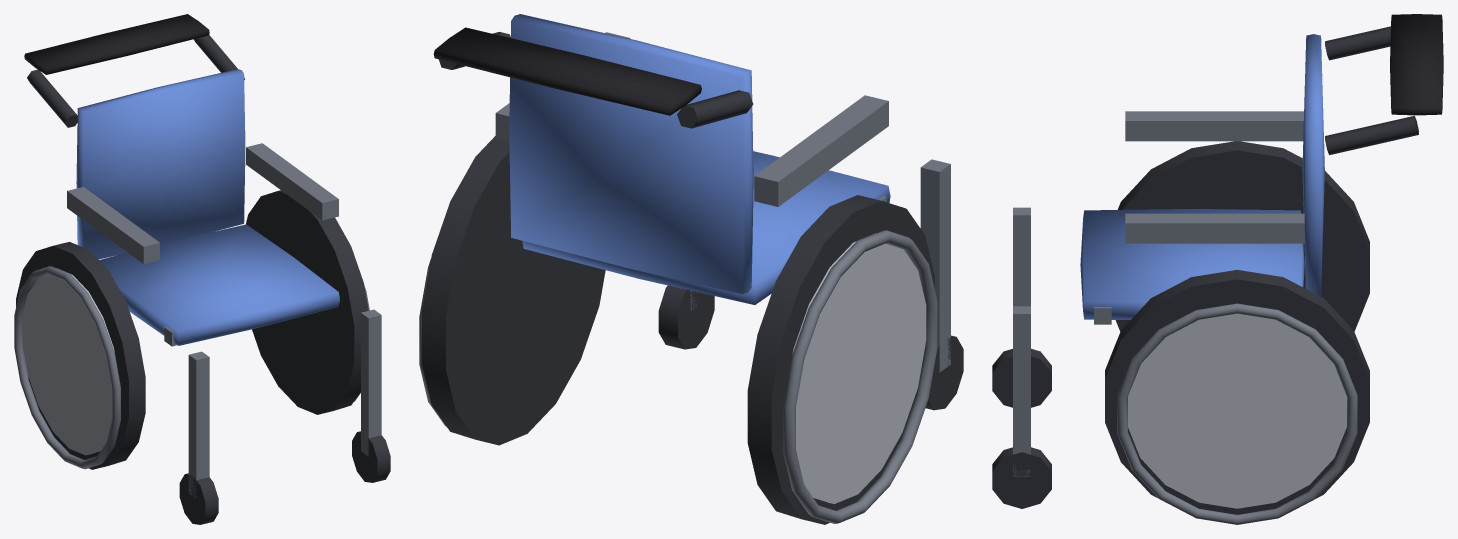
Rendered from wheelchair.glb.
3 views of the same model, side by side, from view 1: azimuth 30°, elevation 25°; view 2: azimuth 150°, elevation 25°; view 3: azimuth 270°, elevation 25° (orthographic). The views are drawn at different scales.
Visible parts, largest first — view 1: root; view 2: root; view 3: root.
Boxes of the visible parts, x1,y1,x2,y2 form: root: (14, 14, 390, 524); root: (419, 14, 963, 524); root: (992, 14, 1443, 524).
Bounding box in the file's own units: 0.784 × 0.975 × 1.01.
